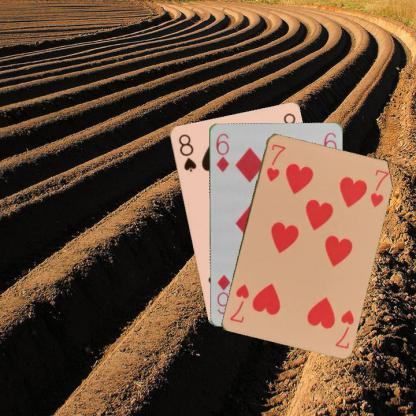6d: (212, 130, 231, 173)
7h: (332, 306, 355, 350), (264, 141, 286, 183)
8s: (176, 131, 198, 173)
